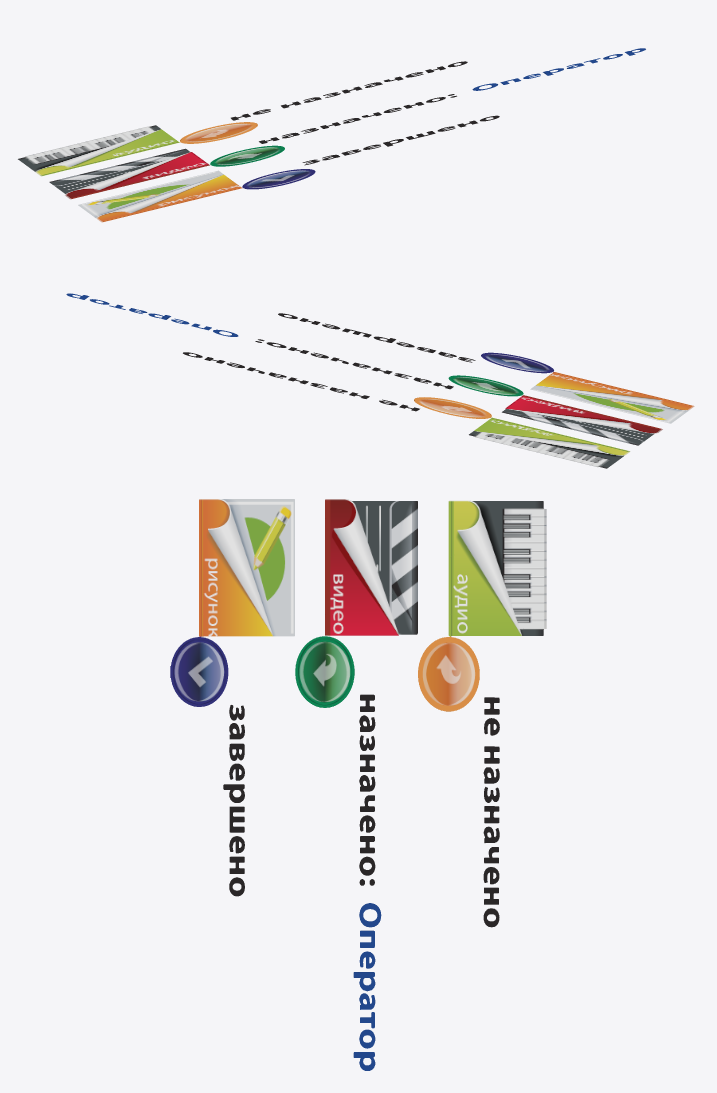
File: PanelIcon.fbx
The picture shows the model from 3 angles, top to bottom: view 1: azimuth 30°, elevation 25°; view 2: azimuth 150°, elevation 25°; view 3: azimuth 270°, elevation 25°; orthographic projection. The views are drawn at different scales.
Parts seen in each view (by area): view 1: grid; view 2: grid; view 3: grid.
Part boxes in pixels (<box>): grid: <box>18,48,645,222</box>; grid: <box>66,293,694,468</box>; grid: <box>170,499,546,1070</box>.
Bounding box in the file's own units: 4.75 × 0 × 1.3.
Materials: 1 (1 with a texture image).
